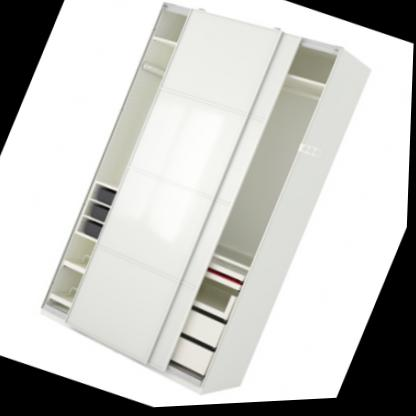Cabinet: (20, 0, 383, 415)
